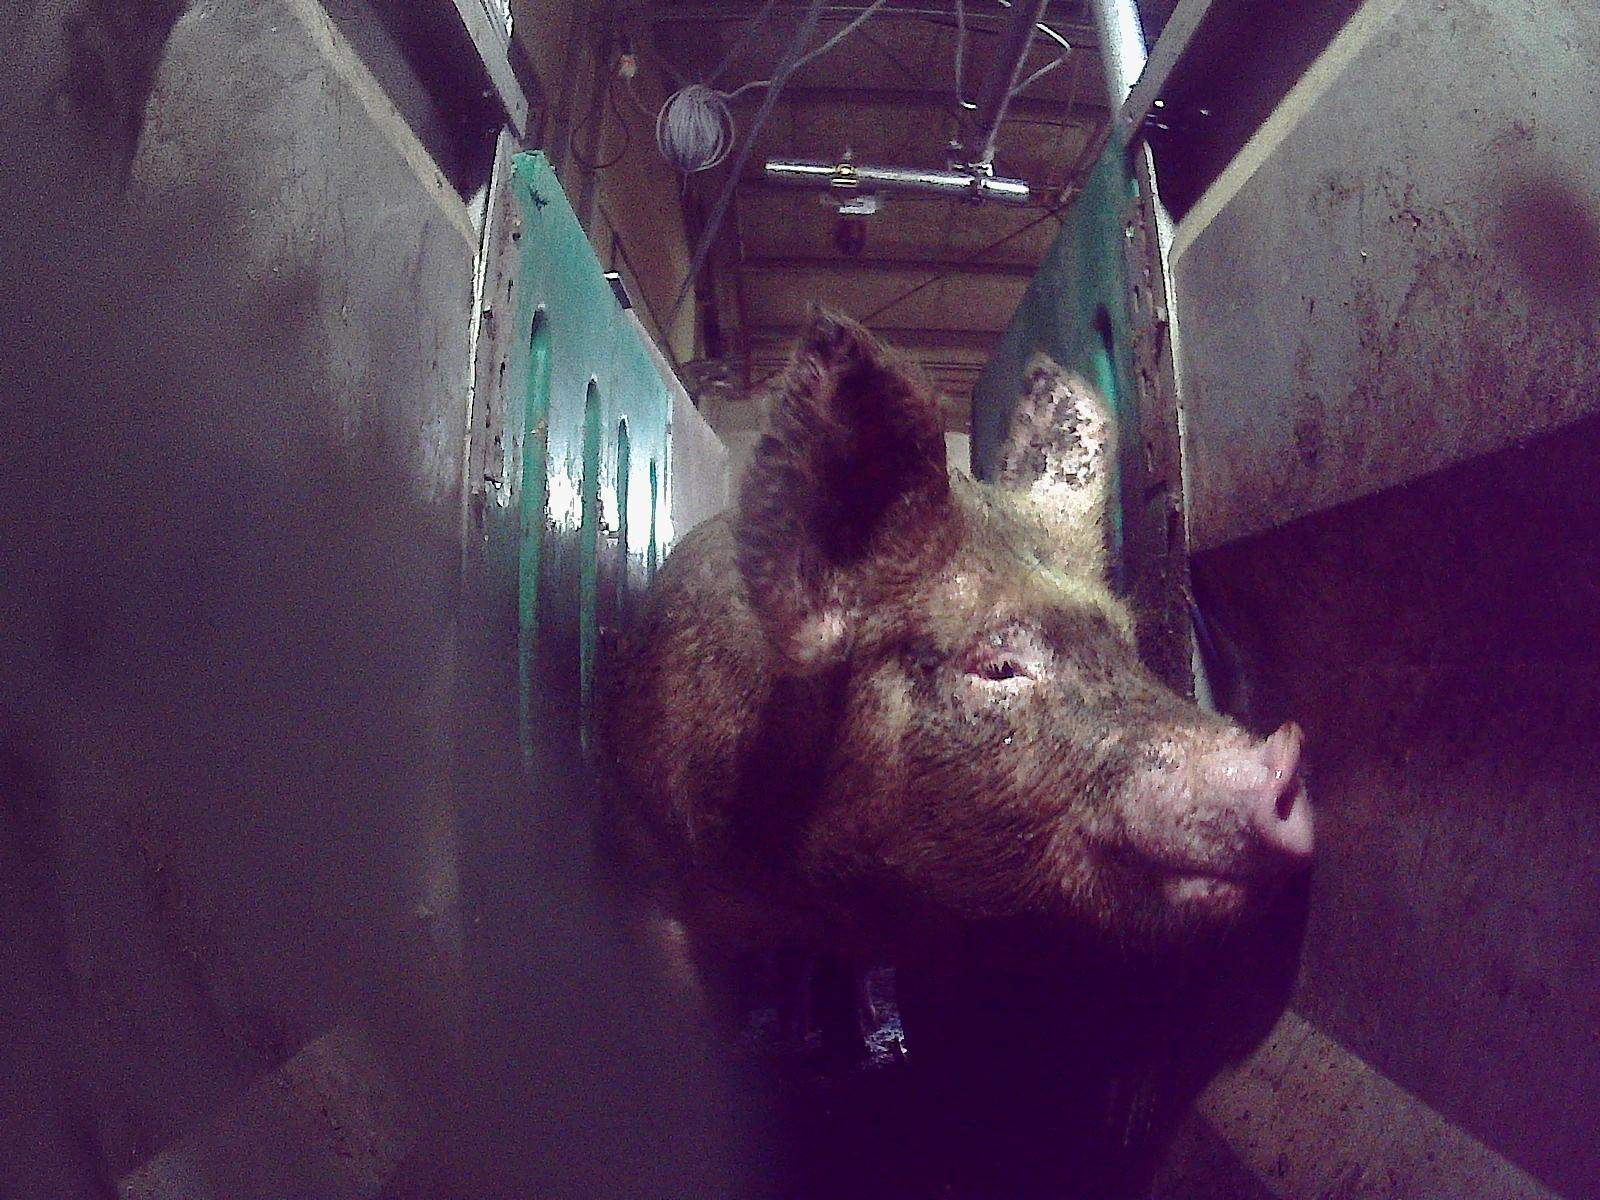Face: (741, 495, 1316, 945)
